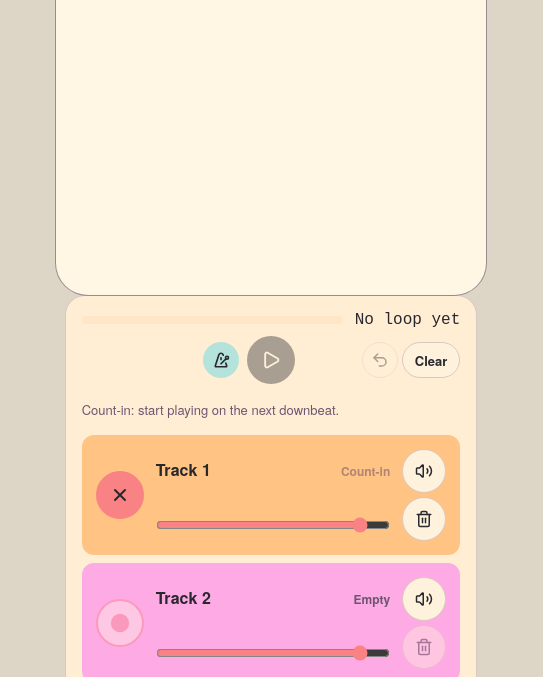
Scenario: Looper › shows a count-in and locks the other tracks while it runs
(page scrolled)
Check: the text with test id "track-1-status" reads "Count-in", box x1=341 y1=462 x2=390 y2=480
Check: the text "Count-in: start playing on the next downbeat." is shown, box x1=82 y1=400 x2=339 y2=419
Right-click the button named "Metronome" at (221, 360), box x1=203 y1=342 x2=239 y2=378
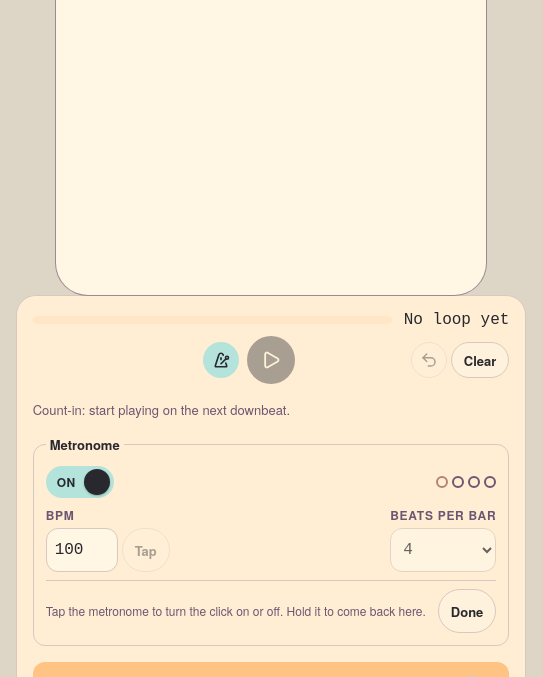
Check: the button "Tap" is disabled, box x1=122 y1=528 x2=170 y2=572
